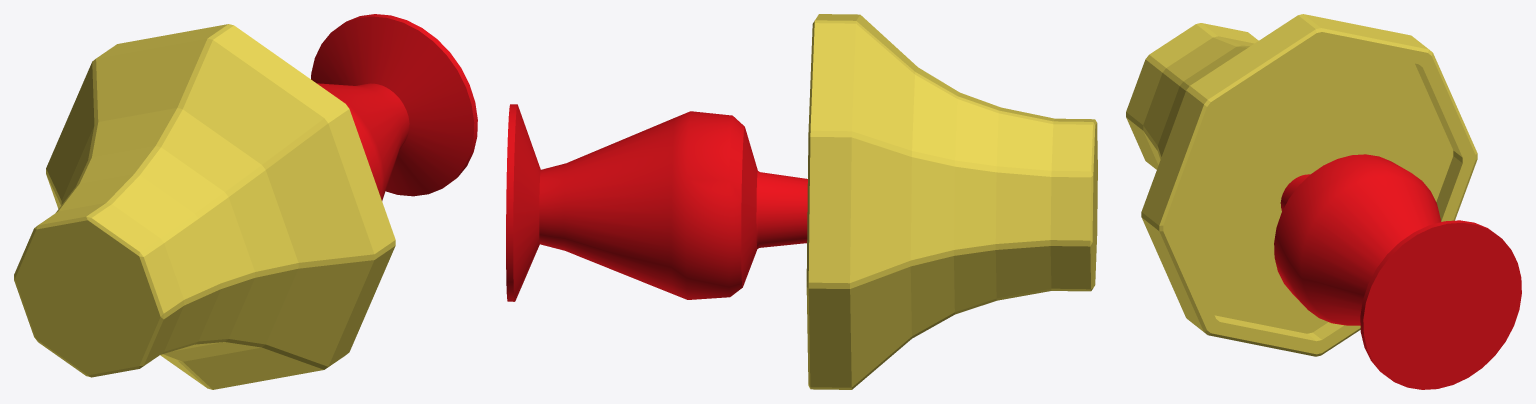
The model's file is лампа выкл.fbx.
3 views of the same model, side by side, from view 1: azimuth 30°, elevation 25°; view 2: azimuth 150°, elevation 25°; view 3: azimuth 270°, elevation 25° (orthographic). The views are drawn at different scales.
Visible parts, largest first — view 1: Окружность.005, Цилиндр.002; view 2: Окружность.005, Цилиндр.002; view 3: Окружность.005, Цилиндр.002.
Boxes of the visible parts, <box> form: Окружность.005: <box>14,24,395,389</box>; Цилиндр.002: <box>311,14,477,200</box>; Окружность.005: <box>806,14,1097,389</box>; Цилиндр.002: <box>506,104,807,301</box>; Окружность.005: <box>1126,14,1477,356</box>; Цилиндр.002: <box>1274,154,1521,389</box>.
Size of the model in its own units: 189 by 123 by 135.
